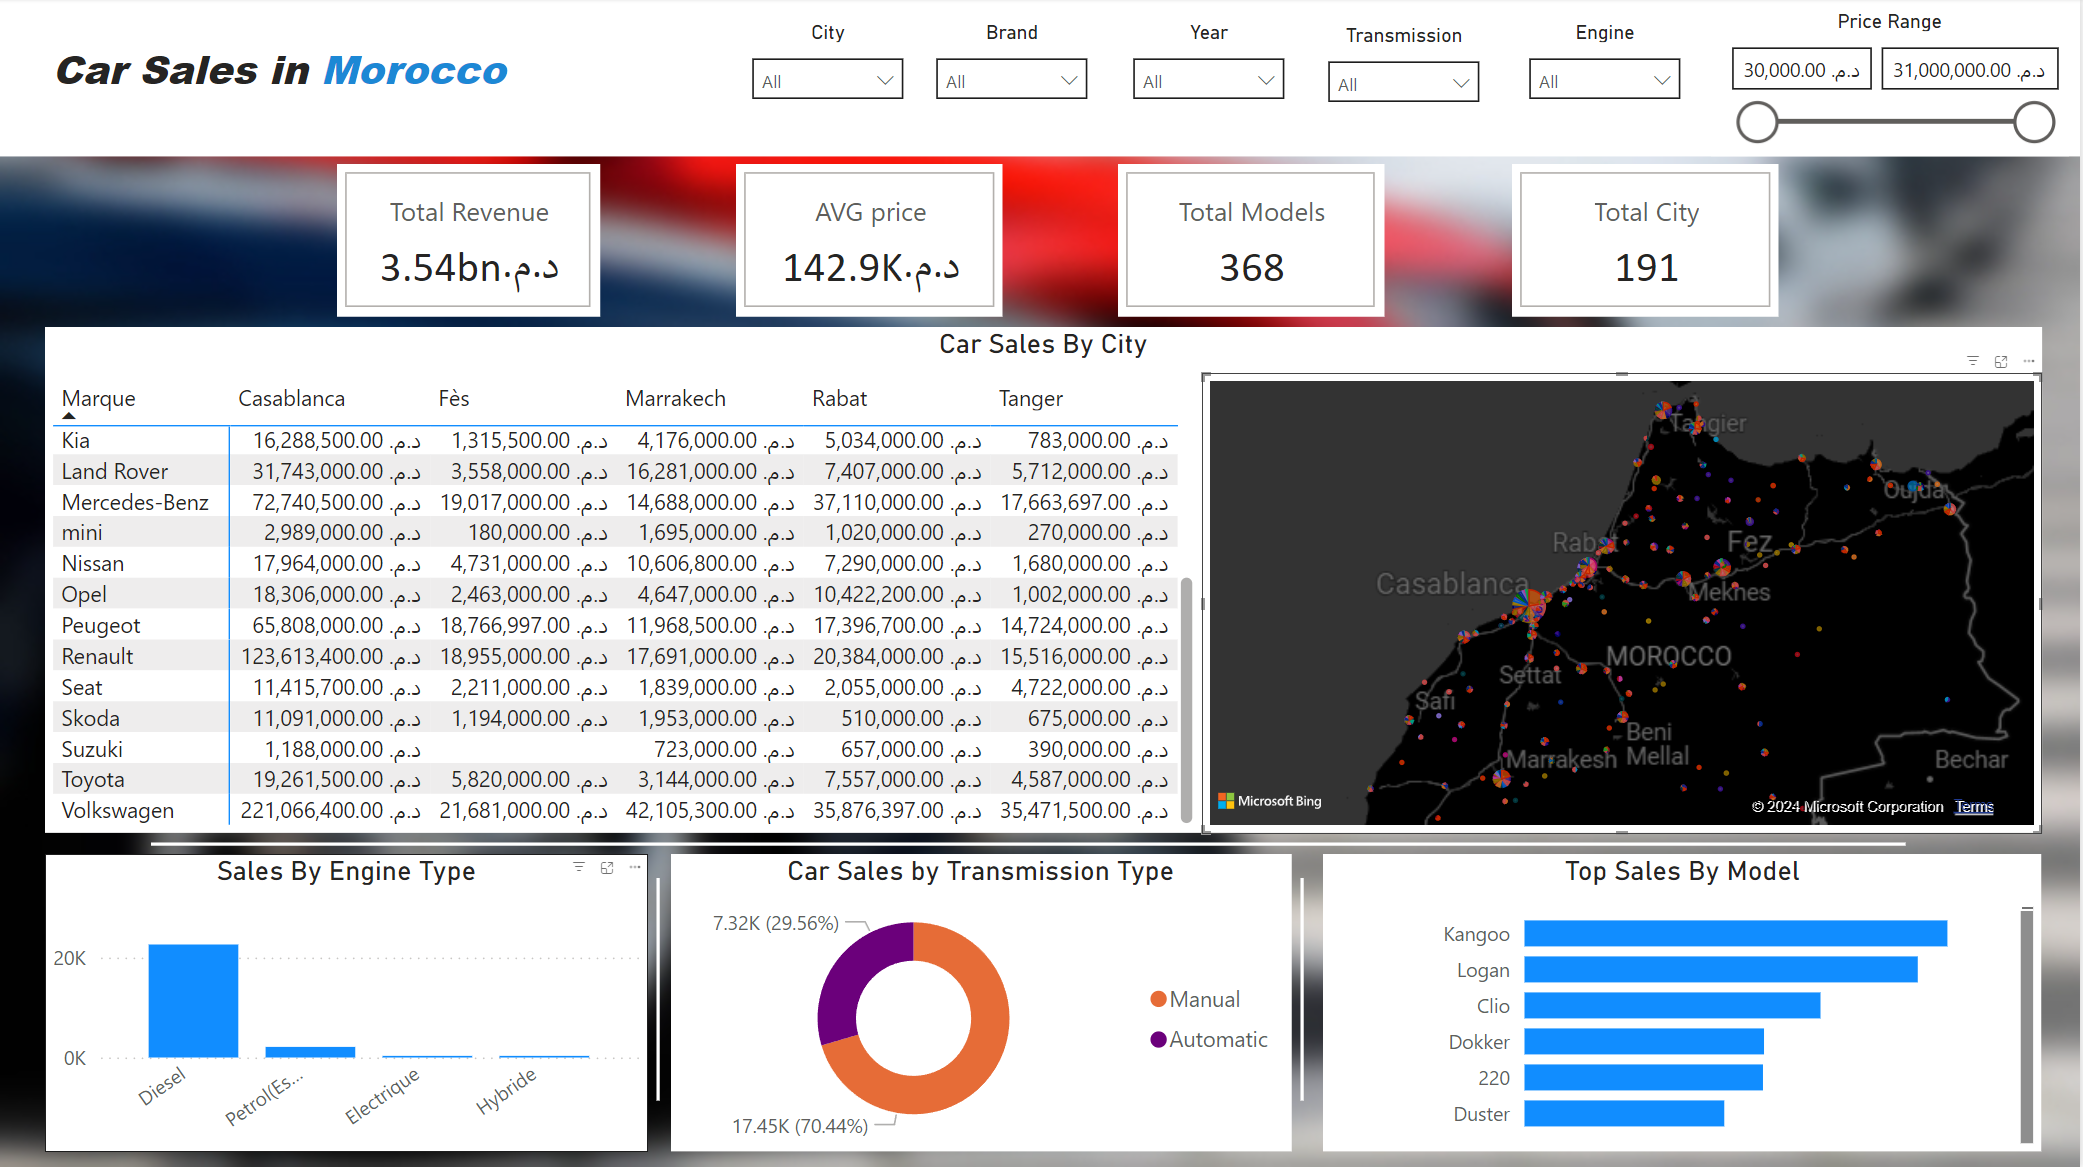

The dashboard page shown, as its layout file describes it:
{"tool":"powerbi","page":{"name":"Page 1","canvas":[1280,720],"ordinal":0},"visuals":[{"type":"shape","box":[0,0,1280,97.5],"z":0},{"type":"cardVisual","fields":{"Data":["avito_car_dataset_ALL.AVG price"]},"box":[452.8,102.1,164.3,93.6],"z":1000},{"type":"slicer","title":"Brand","fields":{"Values":["avito_car_dataset_ALL.Marque"]},"box":[566.4,14,113.3,62.6],"z":2000},{"type":"slicer","title":"Engine","fields":{"Values":["avito_car_dataset_ALL.Type de carburant"]},"box":[930.8,14,113.3,62],"z":3000},{"type":"slicer","title":"Transmission","fields":{"Values":["avito_car_dataset_ALL.Boite de vitesses"]},"box":[807.6,16,113.3,62],"z":4000},{"type":"slicer","title":"Year","fields":{"Values":["avito_car_dataset_ALL.Année-Modèle"]},"box":[687.6,14,113.3,62.6],"z":5000},{"type":"pivotTable","fields":{"Values":["Sum(avito_car_dataset_ALL.Prix)"],"Columns":["avito_car_dataset_ALL.Ville"],"Rows":["avito_car_dataset_ALL.Marque"]},"box":[27.5,231,712,283.4],"z":6000},{"type":"slicer","title":"City","fields":{"Values":["avito_car_dataset_ALL.Ville"]},"box":[453.1,14,113.3,62],"z":7000},{"type":"map","fields":{"Category":["avito_car_dataset_ALL.Ville"],"Series":["avito_car_dataset_ALL.Marque"],"Size":["Sum(avito_car_dataset_ALL.Prix)"]},"box":[739.5,231,517,283.4],"z":8000},{"type":"donutChart","title":"Car Sales by Transmission Type","fields":{"Category":["avito_car_dataset_ALL.Boite de vitesses"],"Y":["CountNonNull(avito_car_dataset_ALL.Ville)"]},"box":[412.9,526.8,381.5,183.2],"z":9000},{"type":"lineStackedColumnComboChart","title":"Sales By Engine Type","fields":{"Category":["avito_car_dataset_ALL.Type de carburant"],"Y":["CountNonNull(avito_car_dataset_ALL.Modèle)"]},"box":[27.5,526.8,371,183.2],"z":10000},{"type":"slicer","title":"Price Range","fields":{"Values":["avito_car_dataset_ALL.Prix"]},"box":[1052.8,7.3,219.9,90],"z":11000},{"type":"clusteredBarChart","title":"Top Sales By Model","fields":{"Y":["CountNonNull(avito_car_dataset_ALL.Ville)"],"Category":["avito_car_dataset_ALL.Modèle"]},"box":[814.1,526.8,442.4,183.2],"z":12000},{"type":"cardVisual","fields":{"Data":["avito_car_dataset_ALL.Total sales"]},"box":[207.4,102.1,161.6,93.6],"z":13000},{"type":"cardVisual","fields":{"Data":["avito_car_dataset_ALL.Distinct Car Models"]},"box":[687.8,102.1,163.6,93.6],"z":14000},{"type":"shape","box":[92.9,514.4,1079.8,12.4],"z":15000},{"type":"shape","box":[398.5,541.8,12.4,137.4],"z":17000},{"type":"shape","box":[795.1,541.8,12.4,137.4],"z":18000},{"type":"textbox","box":[27.3,22,299.8,46.6],"z":19000},{"type":"cardVisual","fields":{"Data":["avito_car_dataset_ALL.Distinct City"]},"box":[930.6,102.1,164.3,93.6],"z":20000},{"type":"textbox","title":"Car Sales By City ","box":[27.5,202.2,1229,28.8],"z":21000}]}

Visuals, with their boxes in screenshot pixels (x1, y1, x2, y2), scaled from the page's 1280x720 canvas onto the 2083x1167 screenshot:
shape: left=0, top=0, right=2082, bottom=158
cardVisual - avito_car_dataset_ALL.AVG price: left=737, top=165, right=1004, bottom=317
"Brand" slicer: left=922, top=23, right=1106, bottom=124
"Engine" slicer: left=1515, top=23, right=1699, bottom=123
"Transmission" slicer: left=1314, top=26, right=1499, bottom=126
"Year" slicer: left=1119, top=23, right=1303, bottom=124
pivotTable - Sum(avito_car_dataset_ALL.Prix) x avito_car_dataset_ALL.Ville: left=45, top=374, right=1203, bottom=834
"City" slicer: left=737, top=23, right=922, bottom=123
map - avito_car_dataset_ALL.Ville x avito_car_dataset_ALL.Marque: left=1203, top=374, right=2045, bottom=834
"Car Sales by Transmission Type" donutChart: left=672, top=854, right=1293, bottom=1151
"Sales By Engine Type" lineStackedColumnComboChart: left=45, top=854, right=648, bottom=1151
"Price Range" slicer: left=1713, top=12, right=2071, bottom=158
"Top Sales By Model" clusteredBarChart: left=1325, top=854, right=2045, bottom=1151
cardVisual - avito_car_dataset_ALL.Total sales: left=338, top=165, right=600, bottom=317
cardVisual - avito_car_dataset_ALL.Distinct Car Models: left=1119, top=165, right=1386, bottom=317
shape: left=151, top=834, right=1908, bottom=854
shape: left=648, top=878, right=669, bottom=1101
shape: left=1294, top=878, right=1314, bottom=1101
textbox: left=44, top=36, right=532, bottom=111
cardVisual - avito_car_dataset_ALL.Distinct City: left=1514, top=165, right=1782, bottom=317
"Car Sales By City " textbox: left=45, top=328, right=2045, bottom=374
